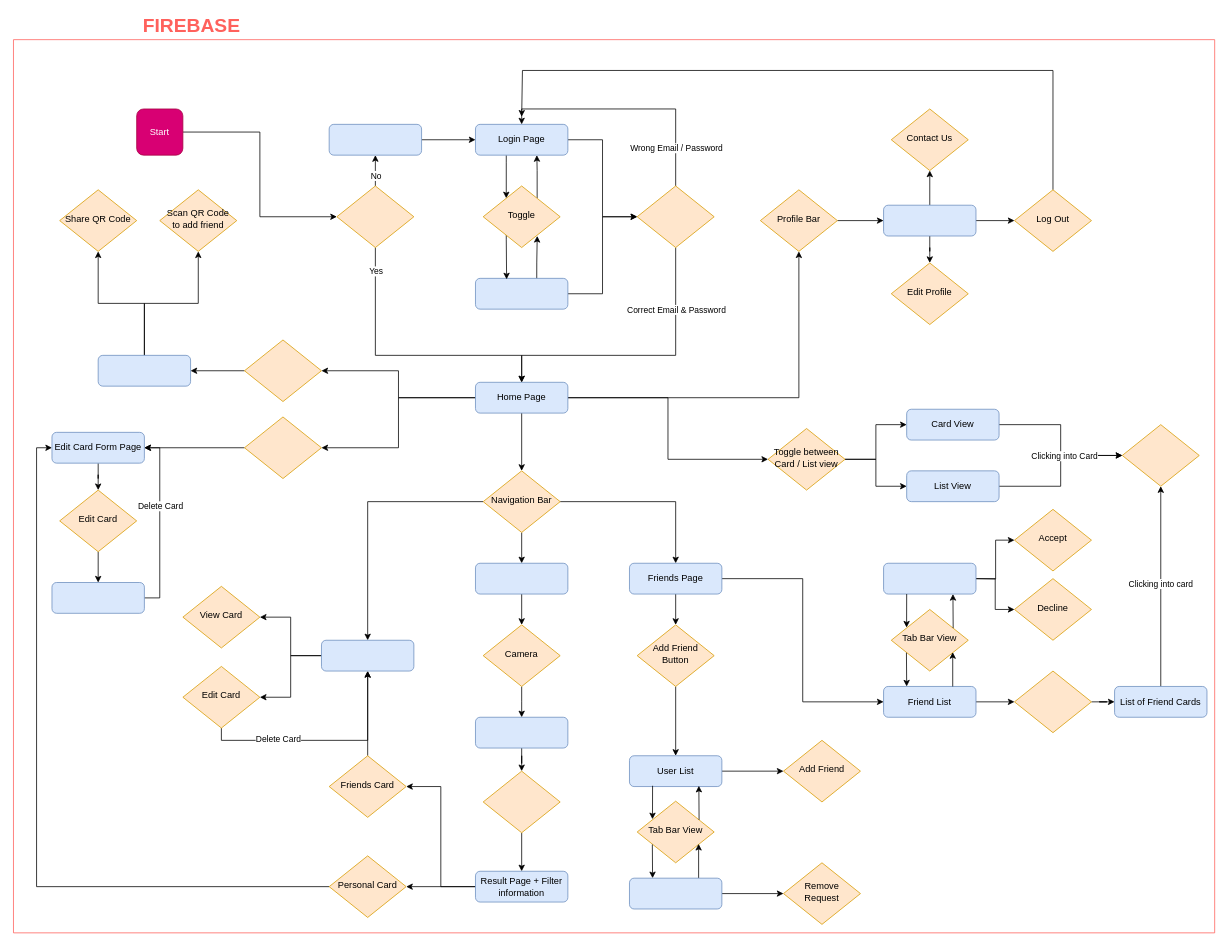
This 1229x947 diagram has some shape labels left out. Here are the shapes that lost their labels. From the top down, the box of each, then its label:
(328, 124, 422, 155): Splash Screen
(336, 185, 414, 248): Persistent Login
(636, 185, 714, 248): Authenticate
(883, 204, 976, 236): Profile Page
(475, 278, 568, 309): Register Page
(97, 355, 191, 386): Personalized QR Code Screen
(244, 339, 321, 402): Connect
(244, 416, 321, 479): Edit Icon
(1122, 424, 1199, 486): View Detailed Info
(51, 582, 144, 613): Edit Card Page
(475, 562, 568, 594): Scan Cards
(883, 562, 976, 594): Friend Request Receive Tab
(321, 639, 414, 671): Cards Page
(1014, 670, 1091, 733): Select Friend
(475, 716, 568, 748): Activate Google ML Kit
(482, 770, 560, 833): Text Recognition
(629, 877, 722, 909): Friend Request Sent Tab
